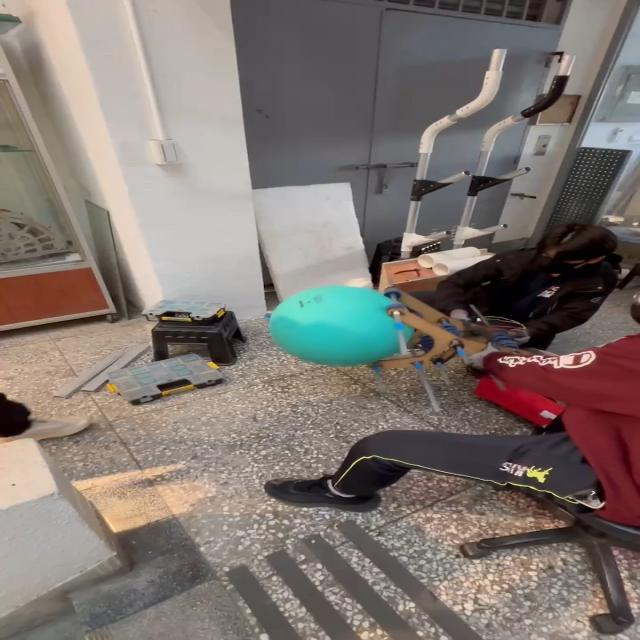ALGAE: (266, 284, 412, 368)
